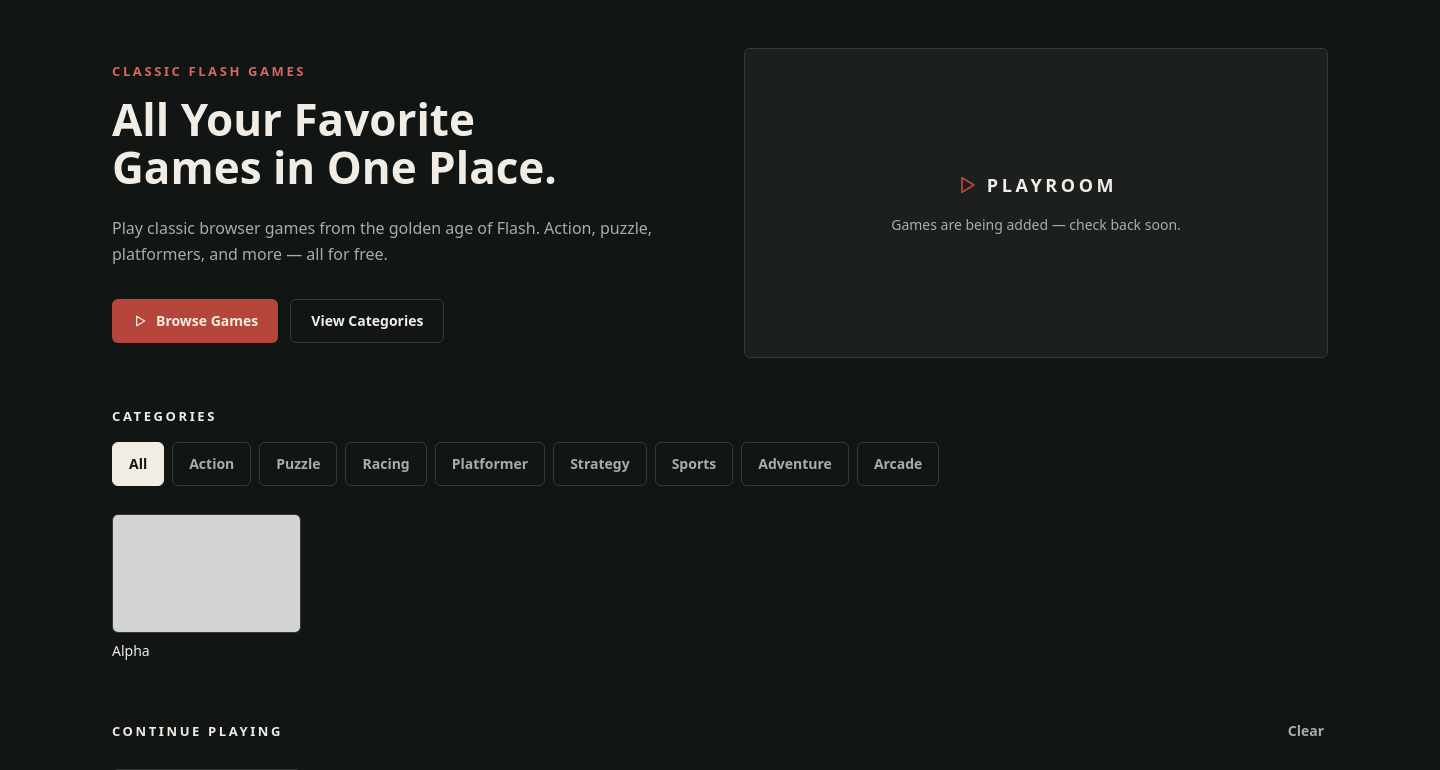
Test case: HomePage › clears recently played from the Continue Playing header
Expected: the heading "CONTINUE PLAYING" is shown, x1=112 y1=721 x2=283 y2=741
Click the button with aria-label "Clear recently played" at point(1306, 731), box x1=1284 y1=709 x2=1328 y2=753
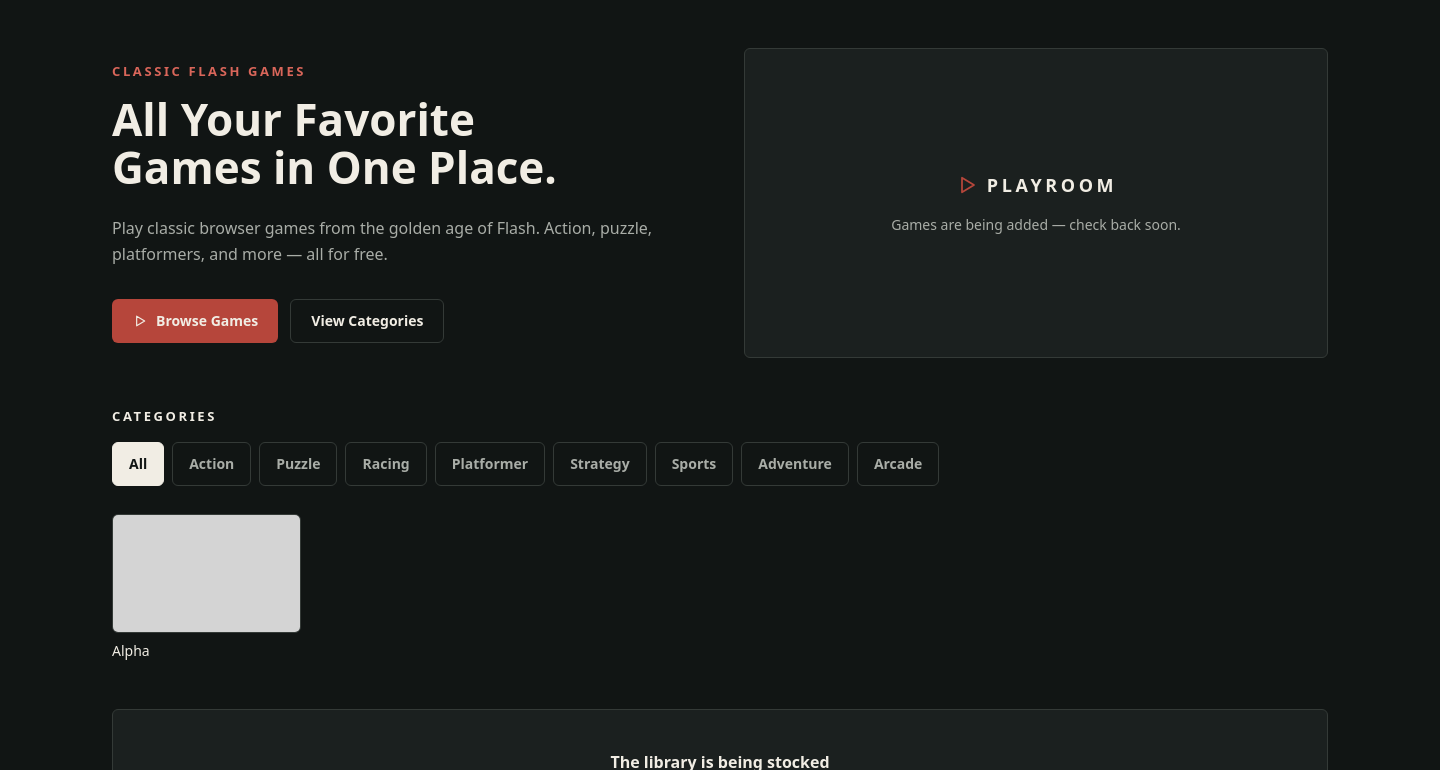
Expected: the heading "CONTINUE PLAYING" is gone
